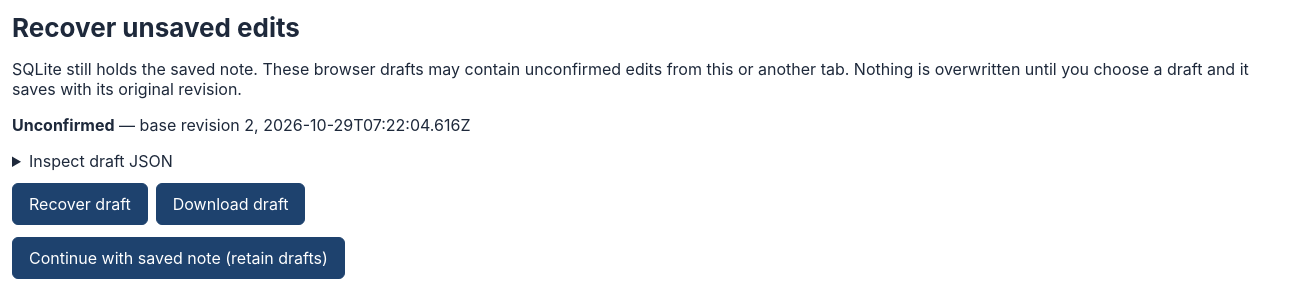
opening the saved note preserves the unconfirmed record
This screenshot has width=1292, height=296.
Click the button "Continue with saved note (retain drafts)": (178, 258) [12,237,345,279]
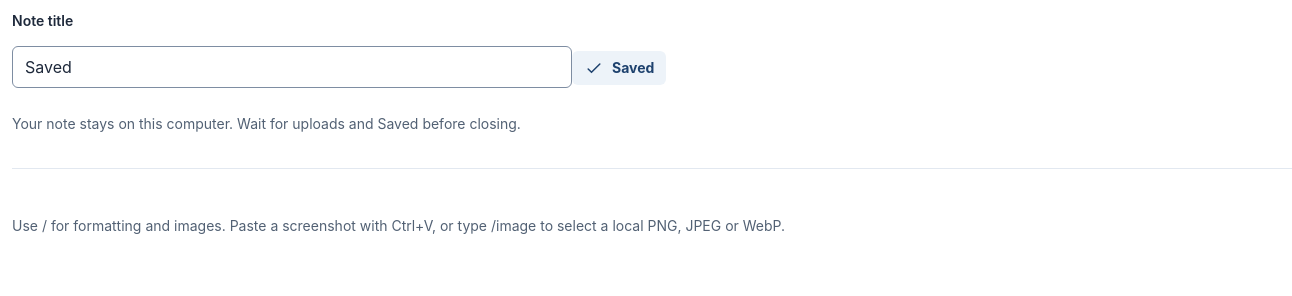
Expected: the field showing "Saved" is shown, [12,46,572,88]
